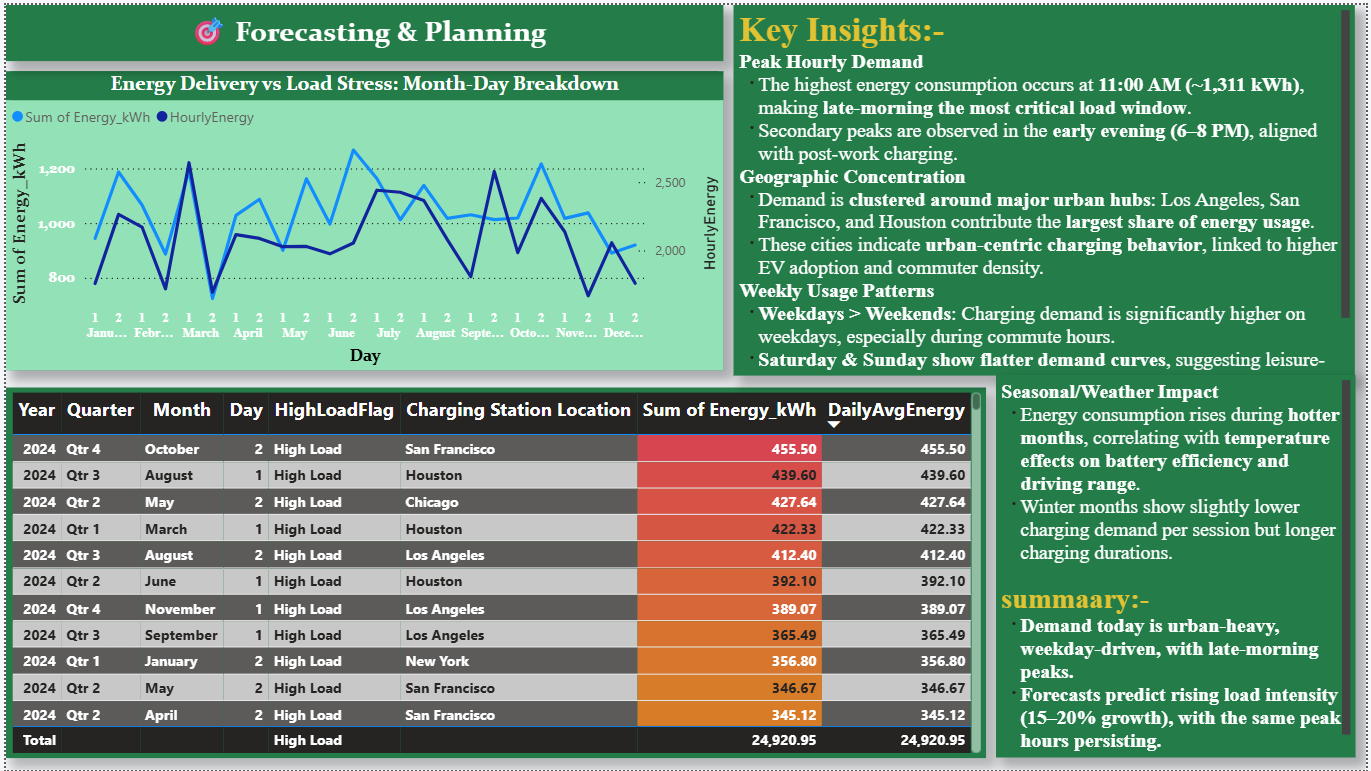

This screenshot's page, from the dashboard's own definition file:
{"tool":"powerbi","page":{"name":" 🎯 Forecasting & Planning","canvas":[1280,720],"ordinal":4},"visuals":[{"type":"lineChart","fields":{"Category":["dashboard_sessions.Charging_Start.Variation.Date Hierarchy.Month","dashboard_sessions.Charging_Start.Variation.Date Hierarchy.Day"],"Y":["Sum(dashboard_sessions.Energy_kWh)"],"Y2":["measure Table.HourlyEnergy"]},"box":[0,62.5,675,281.2],"z":0},{"type":"tableEx","fields":{"Values":["dashboard_sessions.Charging_Start.Variation.Date Hierarchy.Year","dashboard_sessions.Charging_Start.Variation.Date Hierarchy.Quarter","dashboard_sessions.Charging_Start.Variation.Date Hierarchy.Month","dashboard_sessions.Charging_Start.Variation.Date Hierarchy.Day","measure Table.HighLoadFlag","dashboard_sessions.Charging Station Location","Sum(dashboard_sessions.Energy_kWh)","measure Table.DailyAvgEnergy"]},"box":[0,360,922.5,348.8],"z":1000},{"type":"textbox","box":[0,0,675,52.5],"z":2000},{"type":"textbox","box":[685,0,585,348.8],"z":3000},{"type":"textbox","box":[931.2,348.8,338.8,360],"z":4000}]}

Visuals, with their boxes in screenshot pixels (x1, y1, x2, y2), scaled from the page's 1280x720 canvas onto the 1371x771 screenshot:
lineChart - dashboard_sessions.Charging_Start.Variation.Date Hierarchy.Month x dashboard_sessions.Charging_Start.Variation.Date Hierarchy.Day: bbox=(0, 67, 723, 368)
tableEx - dashboard_sessions.Charging_Start.Variation.Date Hierarchy.Year x dashboard_sessions.Charging_Start.Variation.Date Hierarchy.Quarter: bbox=(0, 386, 988, 759)
textbox: bbox=(0, 0, 723, 56)
textbox: bbox=(734, 0, 1360, 374)
textbox: bbox=(997, 374, 1360, 759)
